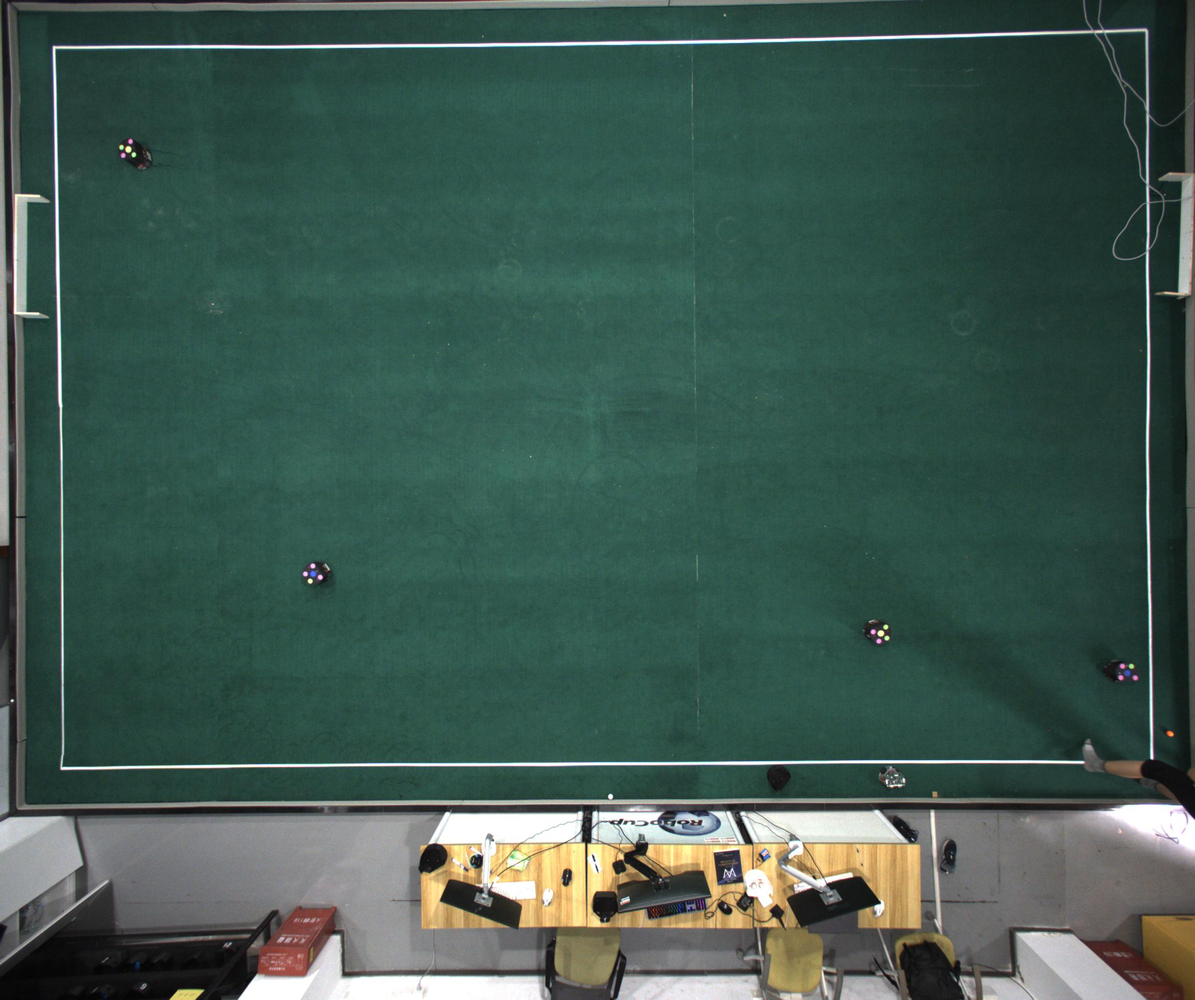ball: (1166, 730, 1175, 738)
blue_bot: (1116, 661, 1140, 683), (302, 563, 324, 585)
yellow_bot: (869, 624, 891, 645), (118, 138, 138, 161)
